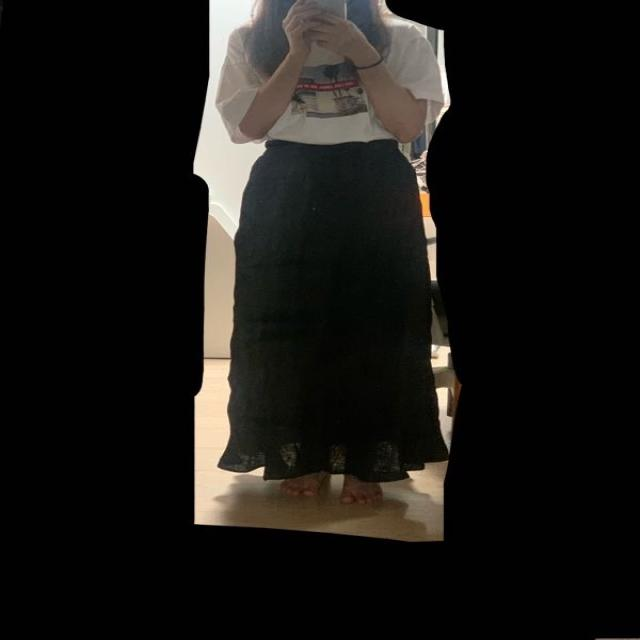shortsleeve: (216, 15, 444, 144)
skirt: (220, 139, 448, 483)
